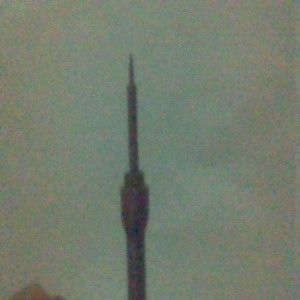solder: (119, 52, 150, 300)
